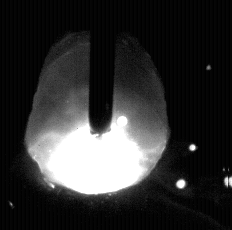arame: (89, 0, 113, 134)
poca: (24, 0, 169, 230)
